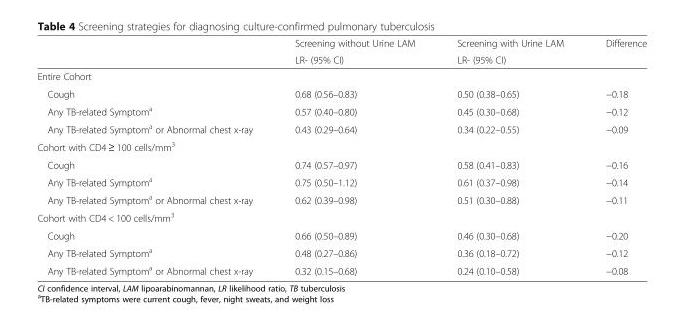table: (36, 37, 646, 276)
table column: (36, 37, 273, 276), (273, 37, 435, 276), (435, 37, 583, 276), (583, 37, 646, 276)
table column header: (36, 37, 646, 67)
table projected row header: (36, 207, 646, 226), (36, 137, 646, 155), (36, 67, 646, 84)
table row: (36, 207, 646, 226), (36, 101, 646, 119), (36, 119, 646, 137), (36, 137, 646, 155), (36, 172, 646, 190), (36, 243, 646, 261), (36, 67, 646, 84), (36, 84, 646, 101), (36, 155, 646, 172), (36, 190, 646, 207), (36, 226, 646, 243), (36, 51, 646, 67), (36, 261, 646, 276), (36, 37, 646, 51)
table spanning cell: (273, 37, 435, 67), (435, 37, 583, 67), (583, 37, 646, 67)
